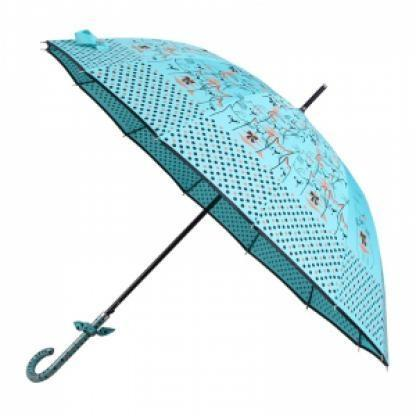Umbrella: (15, 10, 401, 412)
